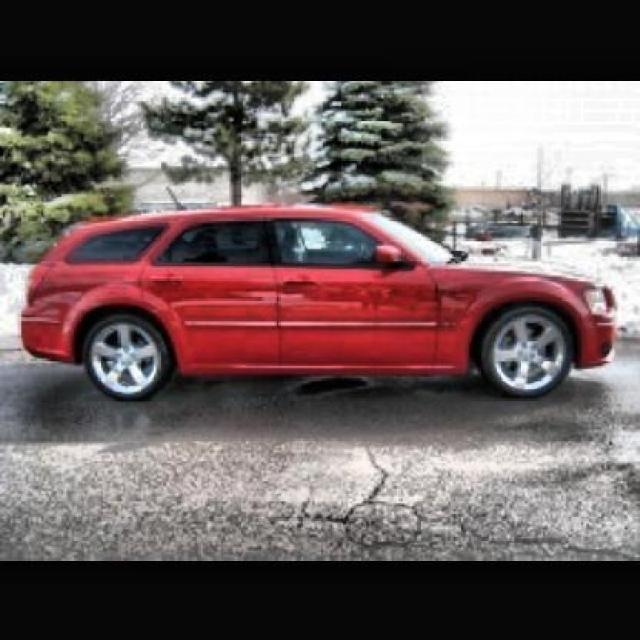red: (21, 207, 640, 421)
